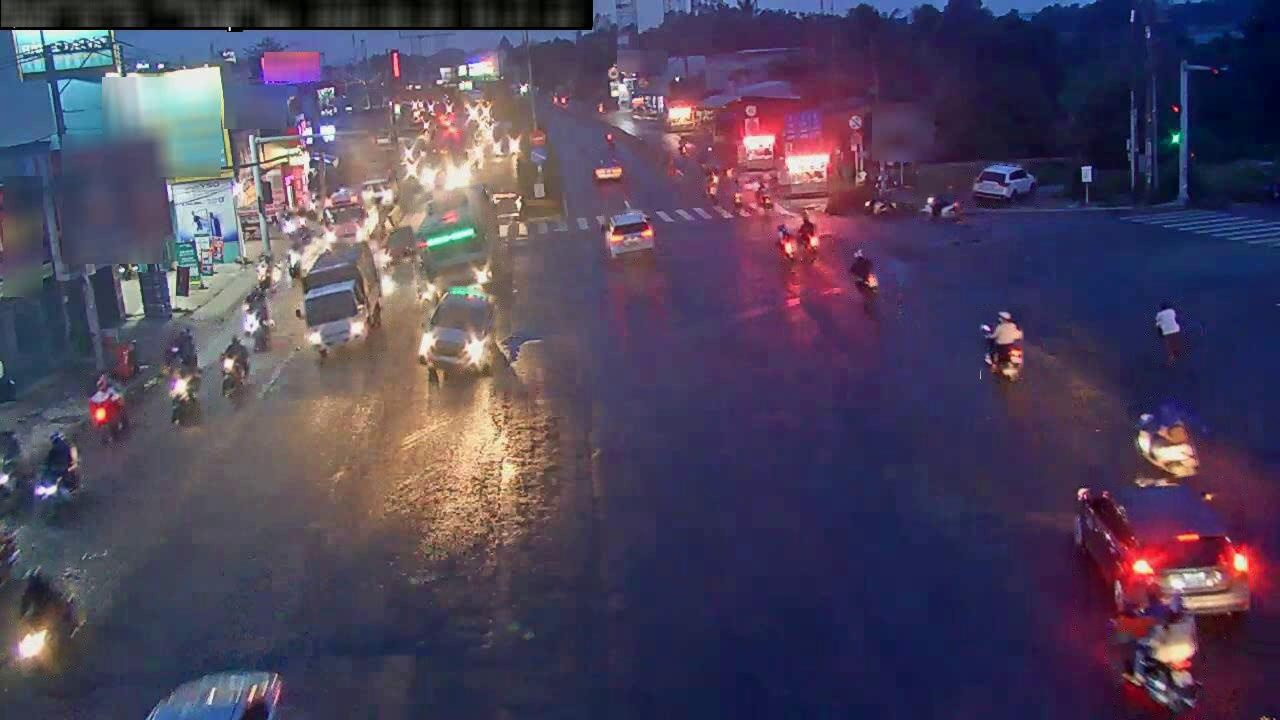Bus: (414, 185, 500, 291)
Car: (1073, 484, 1251, 613), (296, 242, 382, 359), (418, 286, 496, 377), (146, 670, 282, 719), (972, 164, 1037, 203), (602, 211, 654, 258), (322, 204, 369, 243), (864, 191, 914, 216), (0, 525, 19, 585), (382, 226, 414, 261), (361, 177, 394, 206)
Motorcycle: (1124, 636, 1200, 715), (1135, 413, 1198, 480), (777, 225, 819, 264)
Motorcyclist: (11, 567, 82, 671), (33, 431, 81, 511), (164, 328, 201, 425), (981, 311, 1024, 382), (88, 374, 128, 440), (0, 428, 30, 506), (1153, 300, 1186, 366), (242, 286, 273, 351), (221, 337, 249, 398), (849, 247, 879, 297), (920, 195, 961, 220), (255, 254, 274, 288), (285, 244, 301, 279), (704, 163, 719, 200), (756, 181, 772, 211), (730, 177, 743, 211), (295, 209, 309, 237), (306, 194, 320, 220), (280, 213, 295, 237)
Traffic light: (1167, 102, 1184, 146)
Truck: (423, 123, 469, 188)
